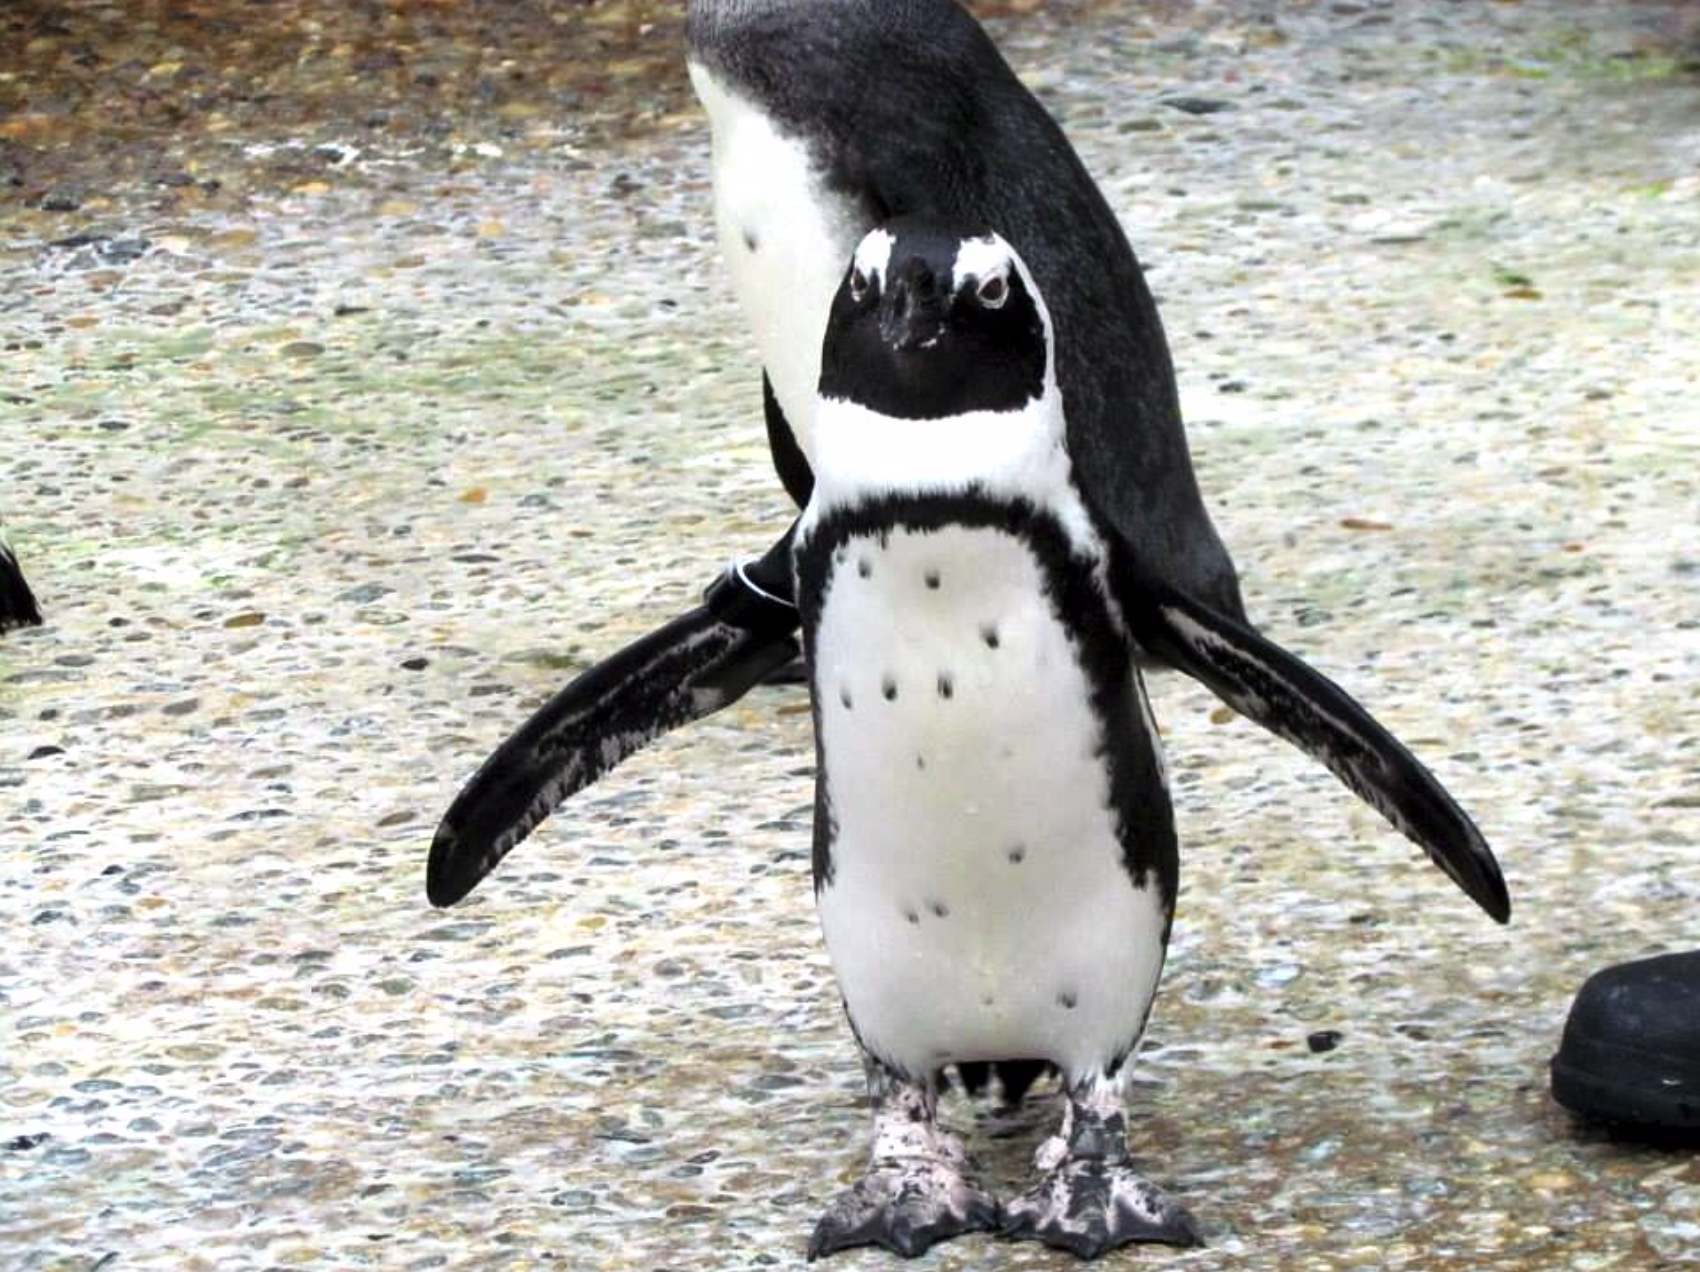penguin: (440, 214, 1513, 1239)
